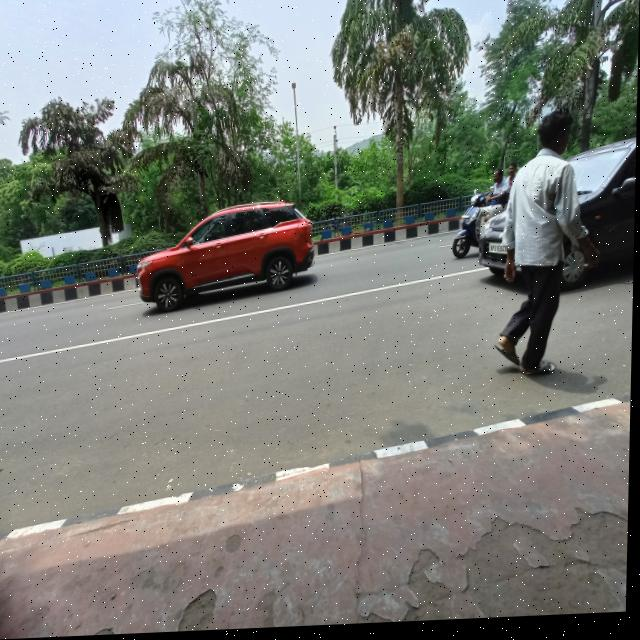car: (498, 121, 637, 327), (130, 197, 324, 317)
